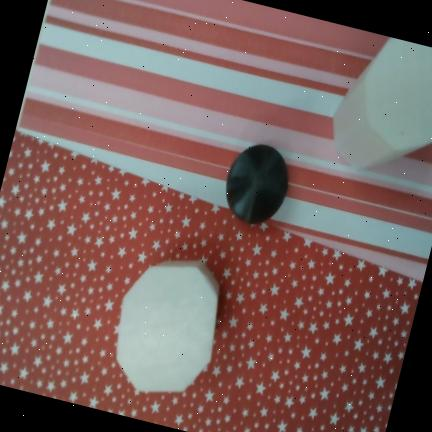Esfera: (225, 144, 287, 224)
Prisma_hexagonal: (114, 259, 219, 392), (332, 38, 432, 168)
